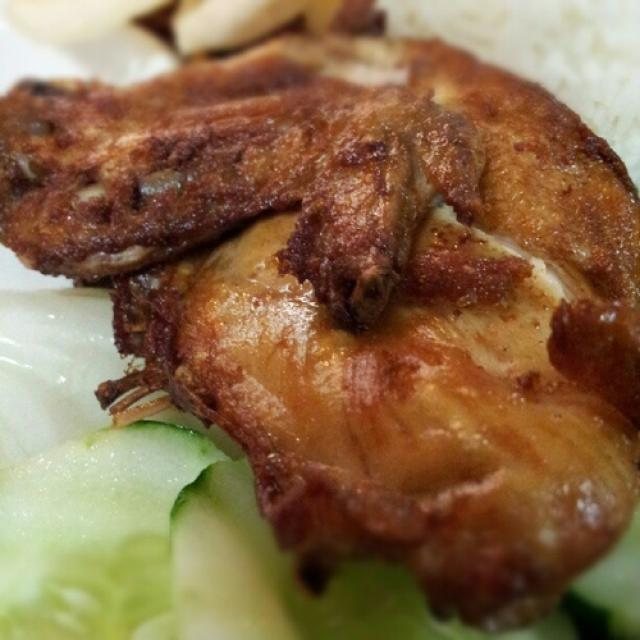鸡肉料理 含炸鸡: (13, 28, 619, 594)
